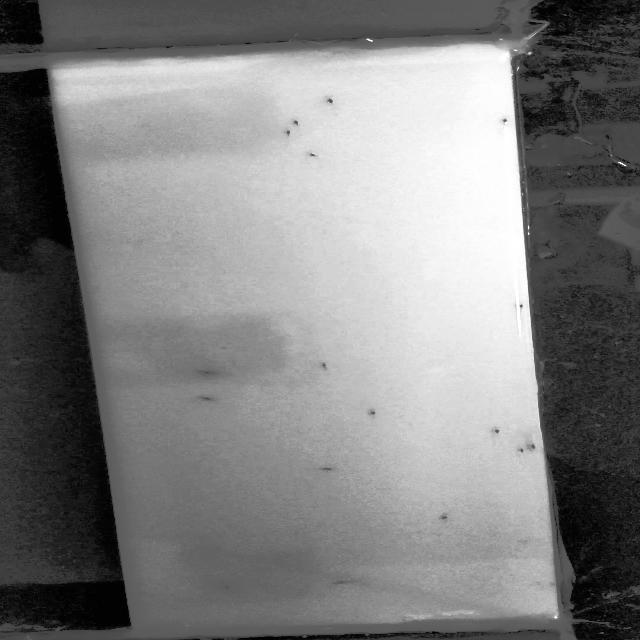shrimp: (327, 576, 364, 586), (216, 580, 244, 592), (315, 359, 332, 375), (193, 394, 223, 403), (324, 97, 347, 108), (433, 512, 454, 524), (495, 117, 513, 130), (194, 369, 223, 377), (288, 119, 305, 130), (514, 446, 528, 459), (308, 149, 324, 160), (526, 440, 540, 452), (316, 467, 339, 474), (364, 409, 380, 418), (491, 429, 505, 438), (280, 128, 294, 137)
